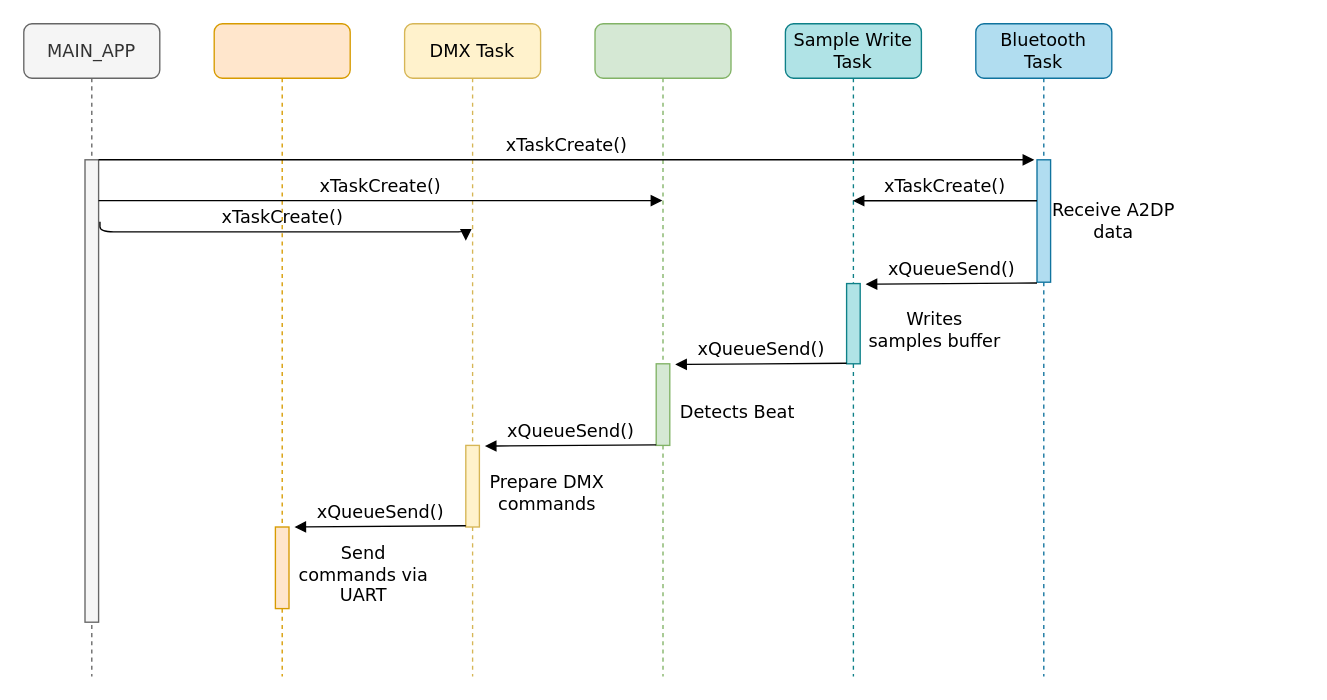
Some shapes in this 1327 by 700 pixel diagram are drawn without their labels. Here are the shapes that lost their labels. From the top down, the box of each, then its label:
(213, 22, 350, 677): DMX send Task
(594, 22, 731, 677): Beat Detector Task
